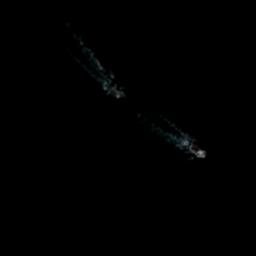boat: (184, 136, 207, 160), (104, 75, 126, 100)
